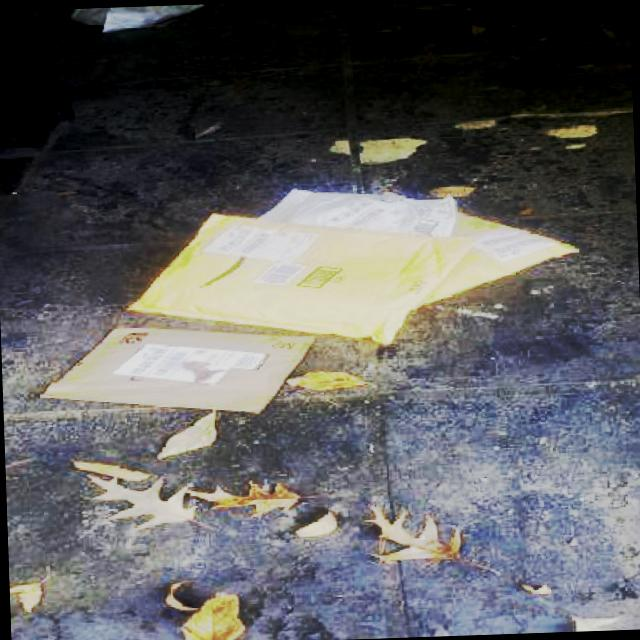Box: (123, 204, 479, 352), (37, 319, 316, 420), (407, 207, 581, 310), (256, 184, 455, 243)
